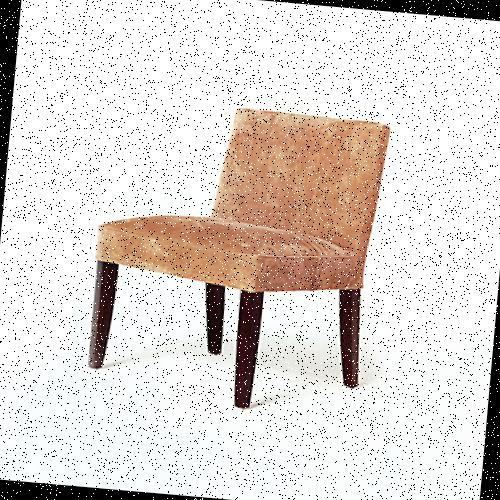Silla: (82, 96, 397, 421)
